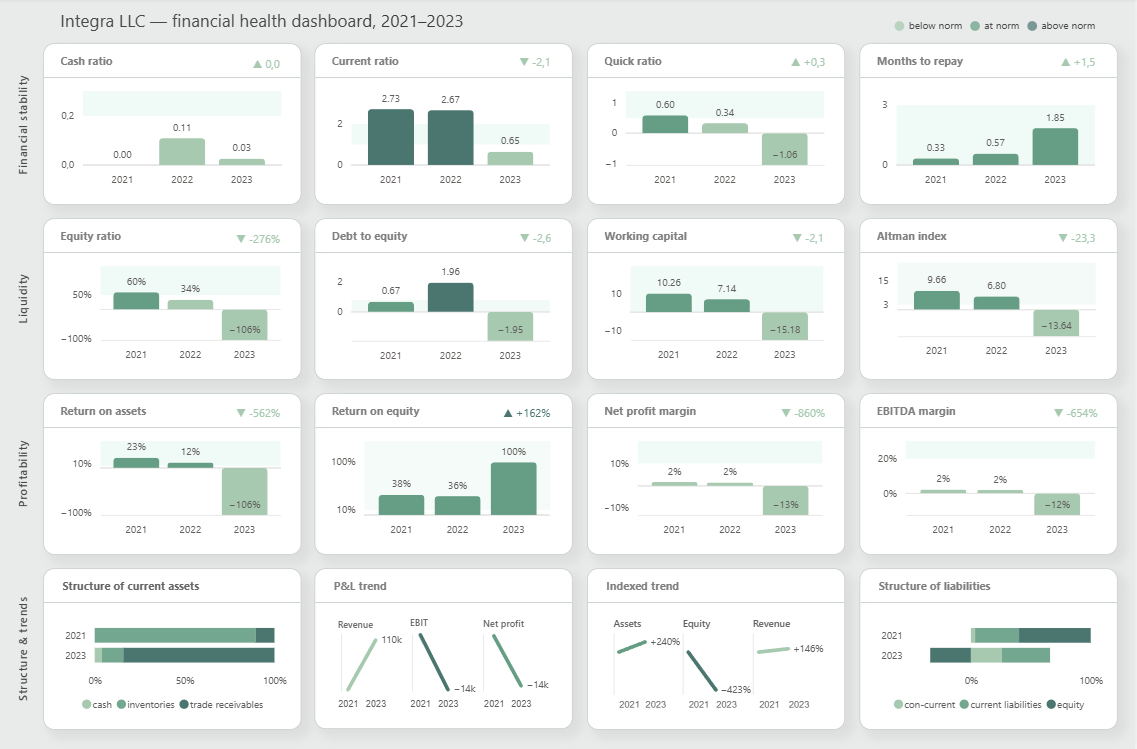

This screenshot's page, from the dashboard's own definition file:
{"tool":"powerbi","page":{"name":"Financial health","canvas":[1235,820],"ordinal":0},"visuals":[{"type":"hundredPercentStackedBarChart","title":"Structure of current assets","fields":{"Category":["years.Year"],"Y":["Sum(financials_long.Value)"],"Series":["financials_long.English_Label"]},"box":[50,620.3,280,174.9],"z":0},{"type":"STANDALONEdeneb7E15AEF80B9E4D4F8E12924291ECE89A","fields":{"dataset":["Sections.Label Spaced"]},"box":[16,54.2,29.8,173.5],"z":1000},{"type":"STANDALONEdeneb7E15AEF80B9E4D4F8E12924291ECE89A","fields":{"dataset":["Sections.Label Spaced"]},"box":[16,243,29.8,173.5],"z":2000},{"type":"STANDALONEdeneb7E15AEF80B9E4D4F8E12924291ECE89A","fields":{"dataset":["Sections.Label Spaced"]},"box":[16,433,29.8,173.5],"z":3000},{"type":"STANDALONEdeneb7E15AEF80B9E4D4F8E12924291ECE89A","fields":{"dataset":["palette.label","palette.notes","palette.hex"]},"box":[967,13,250,39],"z":4000},{"type":"hundredPercentStackedBarChart","title":"Structure of liabilities","fields":{"Category":["years.Year"],"Y":["Sum(financials_long.Value)"],"Series":["financials_long.English_Label"]},"box":[935,620,280,175],"z":5000},{"type":"STANDALONEdeneb7E15AEF80B9E4D4F8E12924291ECE89A","title":"Indexed trend","fields":{"dataset":["financials_long.Year","financials_long.Assets Index %","financials_long.Revenue Index %","financials_long.Assets Index %","financials_long.Equity Index %"]},"box":[640,620,280,175],"z":6000},{"type":"STANDALONEdeneb7E15AEF80B9E4D4F8E12924291ECE89A","fields":{"dataset":["Sections.Label Spaced"]},"box":[16,623,29.5,173],"z":7000},{"type":"STANDALONEdeneb7E15AEF80B9E4D4F8E12924291ECE89A","title":"Quick ratio","fields":{"dataset":["ratios.Year","ratios.Ratio Value","ratios.Norm Low","ratios.Norm High","ratios.Norm Status","ratios.Color Hex"]},"box":[640,50,280,175],"z":8000},{"type":"STANDALONEdeneb7E15AEF80B9E4D4F8E12924291ECE89A","title":"Months to repay","fields":{"dataset":["ratios.Year","ratios.Ratio Value","ratios.Norm Low","ratios.Norm High","ratios.Norm Status","ratios.Color Hex"]},"box":[935,50,280,175],"z":9000},{"type":"STANDALONEdeneb7E15AEF80B9E4D4F8E12924291ECE89A","title":"Cash ratio","fields":{"dataset":["ratios.Year","ratios.Ratio Value","ratios.Norm Low","ratios.Norm High","ratios.Norm Status","ratios.Color Hex"]},"box":[50,50,280,175],"z":10000},{"type":"STANDALONEdeneb7E15AEF80B9E4D4F8E12924291ECE89A","title":"P&L trend","fields":{"dataset":["financials_long.Year","financials_long.Variable_Name","financials_long.Value"]},"box":[345,620.2,280,174.4],"z":11000},{"type":"STANDALONEdeneb7E15AEF80B9E4D4F8E12924291ECE89A","title":"Current ratio","fields":{"dataset":["ratios.Year","ratios.Ratio Value","ratios.Norm Low","ratios.Norm High","ratios.Norm Status","ratios.Color Hex"]},"box":[345,50,280,175],"z":12000},{"type":"STANDALONEdeneb7E15AEF80B9E4D4F8E12924291ECE89A","title":"Net profit margin","fields":{"dataset":["ratios.Year","ratios.Ratio Value","ratios.Norm Low","ratios.Norm High","ratios.Norm Status","ratios.Color Hex"]},"box":[640,430,280,175],"z":12500},{"type":"STANDALONEdeneb7E15AEF80B9E4D4F8E12924291ECE89A","title":"Return on equity","fields":{"dataset":["ratios.Year","ratios.Ratio Value","ratios.Norm Low","ratios.Norm High","ratios.Norm Status","ratios.Color Hex"]},"box":[345,430,280,175],"z":12750},{"type":"STANDALONEdeneb7E15AEF80B9E4D4F8E12924291ECE89A","title":"Working capital","fields":{"dataset":["ratios.Year","ratios.Ratio Value","ratios.Norm Low","ratios.Norm High","ratios.Norm Status","ratios.Color Hex"]},"box":[640,240,280,175],"z":12812},{"type":"STANDALONEdeneb7E15AEF80B9E4D4F8E12924291ECE89A","title":"Return on assets","fields":{"dataset":["ratios.Year","ratios.Ratio Value","ratios.Norm Low","ratios.Norm High","ratios.Norm Status","ratios.Color Hex"]},"box":[50,430,280,175],"z":12875},{"type":"STANDALONEdeneb7E15AEF80B9E4D4F8E12924291ECE89A","title":"Debt to equity","fields":{"dataset":["ratios.Year","ratios.Ratio Value","ratios.Norm Low","ratios.Norm High","ratios.Norm Status","ratios.Color Hex"]},"box":[345,240,280,175],"z":12906},{"type":"STANDALONEdeneb7E15AEF80B9E4D4F8E12924291ECE89A","title":"Altman index","fields":{"dataset":["ratios.Year","ratios.Ratio Value","ratios.Norm Low","ratios.Norm High","ratios.Norm Status","ratios.Color Hex"]},"box":[935,240,280,175],"z":12937},{"type":"STANDALONEdeneb7E15AEF80B9E4D4F8E12924291ECE89A","title":"Equity ratio","fields":{"dataset":["ratios.Year","ratios.Ratio Value","ratios.Norm Low","ratios.Norm High","ratios.Norm Status","ratios.Color Hex"]},"box":[50,240,280,175],"z":12968},{"type":"STANDALONEdeneb7E15AEF80B9E4D4F8E12924291ECE89A","title":"EBITDA margin","fields":{"dataset":["ratios.Year","ratios.Ratio Value","ratios.Norm Low","ratios.Norm High","ratios.Norm Status","ratios.Color Hex"]},"box":[935,430,280,175],"z":13000},{"type":"textbox","box":[64,8,526.2,55],"z":14000},{"type":"card","fields":{"Values":["ratios.YoY Chip"]},"box":[251.2,55,82.9,39],"z":15000},{"type":"card","fields":{"Values":["ratios.YoY Chip"]},"box":[543,54.9,82.9,37.8],"z":16000},{"type":"card","fields":{"Values":["ratios.YoY Chip"]},"box":[837.8,54.9,84.1,37.8],"z":17000},{"type":"card","fields":{"Values":["ratios.YoY Chip"]},"box":[1131,54.9,84.1,37.8],"z":18000},{"type":"card","fields":{"Values":["ratios.YoY Chip"]},"box":[242,245,84.1,38.6],"z":19000},{"type":"card","fields":{"Values":["ratios.YoY Chip"]},"box":[542,245,84.1,37.5],"z":20000},{"type":"card","fields":{"Values":["ratios.YoY Chip"]},"box":[838,245,84.1,37.5],"z":21000},{"type":"card","fields":{"Values":["ratios.YoY Chip"]},"box":[242,435,84.1,37.5],"z":22000},{"type":"card","fields":{"Values":["ratios.YoY Chip"]},"box":[533,435,84.1,37.5],"z":23000},{"type":"card","fields":{"Values":["ratios.YoY Chip"]},"box":[832,435,84.1,37.5],"z":24000},{"type":"card","fields":{"Values":["ratios.YoY Chip"]},"box":[1128,435,84.1,37.5],"z":25000},{"type":"card","fields":{"Values":["ratios.YoY Chip"]},"box":[1129,245,84.1,37.5],"z":26000}]}

Visuals, with their boxes in screenshot pixels (x1, y1, x2, y2), scaled from the page's 1235x820 canvas onto the 1137x749 screenshot:
"Structure of current assets" hundredPercentStackedBarChart: 46:567:304:726
STANDALONEdeneb7E15AEF80B9E4D4F8E12924291ECE89A - Sections.Label Spaced: 15:50:42:208
STANDALONEdeneb7E15AEF80B9E4D4F8E12924291ECE89A - Sections.Label Spaced: 15:222:42:380
STANDALONEdeneb7E15AEF80B9E4D4F8E12924291ECE89A - Sections.Label Spaced: 15:396:42:554
STANDALONEdeneb7E15AEF80B9E4D4F8E12924291ECE89A - palette.label x palette.notes: 890:12:1120:47
"Structure of liabilities" hundredPercentStackedBarChart: 861:566:1119:726
"Indexed trend" STANDALONEdeneb7E15AEF80B9E4D4F8E12924291ECE89A: 589:566:847:726
STANDALONEdeneb7E15AEF80B9E4D4F8E12924291ECE89A - Sections.Label Spaced: 15:569:42:727
"Quick ratio" STANDALONEdeneb7E15AEF80B9E4D4F8E12924291ECE89A: 589:46:847:206
"Months to repay" STANDALONEdeneb7E15AEF80B9E4D4F8E12924291ECE89A: 861:46:1119:206
"Cash ratio" STANDALONEdeneb7E15AEF80B9E4D4F8E12924291ECE89A: 46:46:304:206
"P&L trend" STANDALONEdeneb7E15AEF80B9E4D4F8E12924291ECE89A: 318:566:575:726
"Current ratio" STANDALONEdeneb7E15AEF80B9E4D4F8E12924291ECE89A: 318:46:575:206
"Net profit margin" STANDALONEdeneb7E15AEF80B9E4D4F8E12924291ECE89A: 589:393:847:553
"Return on equity" STANDALONEdeneb7E15AEF80B9E4D4F8E12924291ECE89A: 318:393:575:553
"Working capital" STANDALONEdeneb7E15AEF80B9E4D4F8E12924291ECE89A: 589:219:847:379
"Return on assets" STANDALONEdeneb7E15AEF80B9E4D4F8E12924291ECE89A: 46:393:304:553
"Debt to equity" STANDALONEdeneb7E15AEF80B9E4D4F8E12924291ECE89A: 318:219:575:379
"Altman index" STANDALONEdeneb7E15AEF80B9E4D4F8E12924291ECE89A: 861:219:1119:379
"Equity ratio" STANDALONEdeneb7E15AEF80B9E4D4F8E12924291ECE89A: 46:219:304:379
"EBITDA margin" STANDALONEdeneb7E15AEF80B9E4D4F8E12924291ECE89A: 861:393:1119:553
textbox: 59:7:543:58
card - ratios.YoY Chip: 231:50:308:86
card - ratios.YoY Chip: 500:50:576:85
card - ratios.YoY Chip: 771:50:849:85
card - ratios.YoY Chip: 1041:50:1119:85
card - ratios.YoY Chip: 223:224:300:259
card - ratios.YoY Chip: 499:224:576:258
card - ratios.YoY Chip: 772:224:849:258
card - ratios.YoY Chip: 223:397:300:432
card - ratios.YoY Chip: 491:397:568:432
card - ratios.YoY Chip: 766:397:843:432
card - ratios.YoY Chip: 1038:397:1116:432
card - ratios.YoY Chip: 1039:224:1117:258
